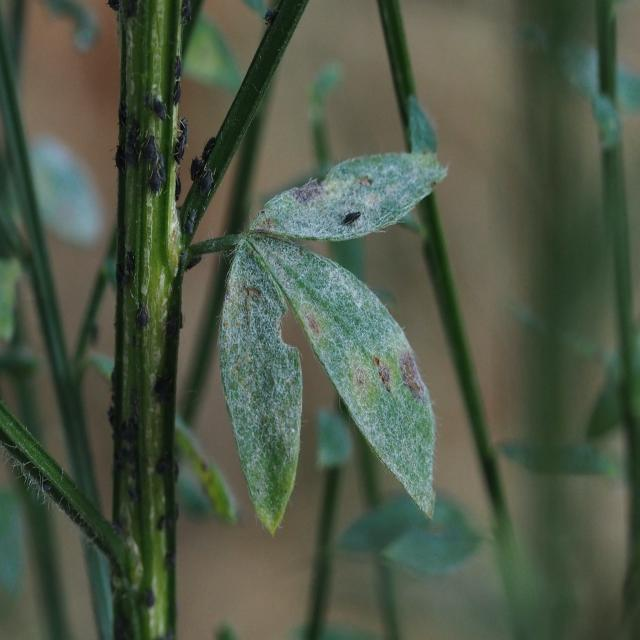powdery_mildew: (250, 235, 435, 516), (220, 242, 302, 533), (249, 152, 447, 241)
